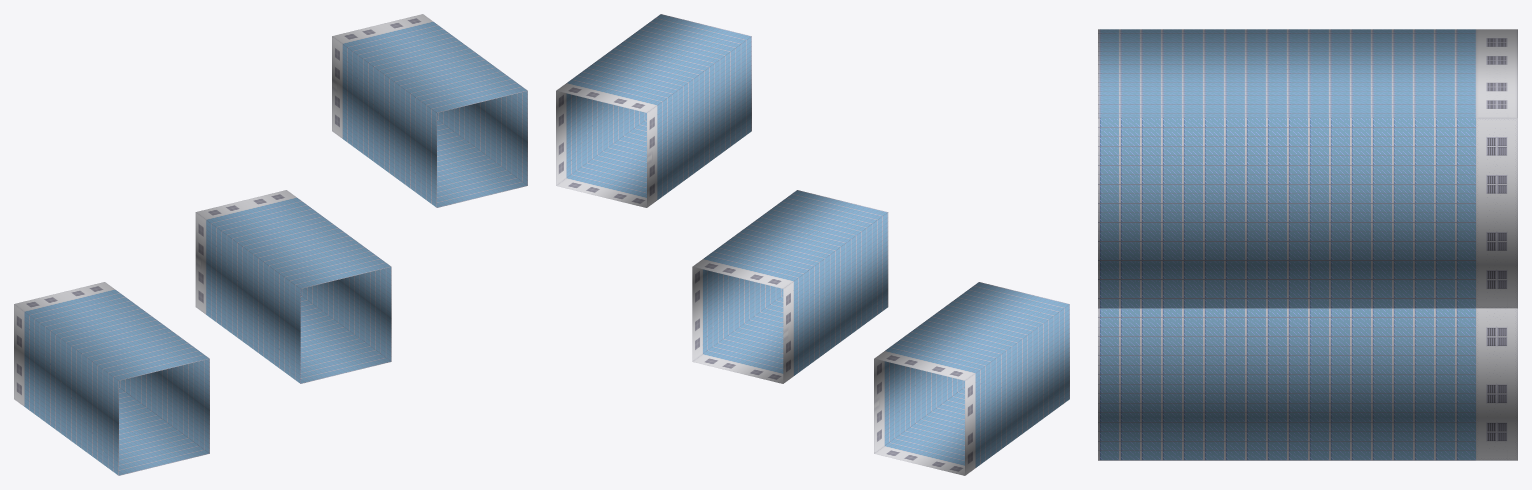
The model's file is skyscrapers.fbx.
3 renders of one model, left to right at view 1: azimuth 30°, elevation 25°; view 2: azimuth 150°, elevation 25°; view 3: azimuth 270°, elevation 25°, orthographic. The views are drawn at different scales.
Parts seen in each view (by area): view 1: skyscraper_001; view 2: skyscraper_001; view 3: skyscraper_001.
Part boxes in pixels (box(x1,y1,x2,y2)): skyscraper_001: box(14, 14, 527, 475); skyscraper_001: box(556, 14, 1069, 475); skyscraper_001: box(1098, 29, 1517, 460).
Bounding box in the file's own units: 180 × 120 × 80.
Materials: 1 (1 with a texture image).
